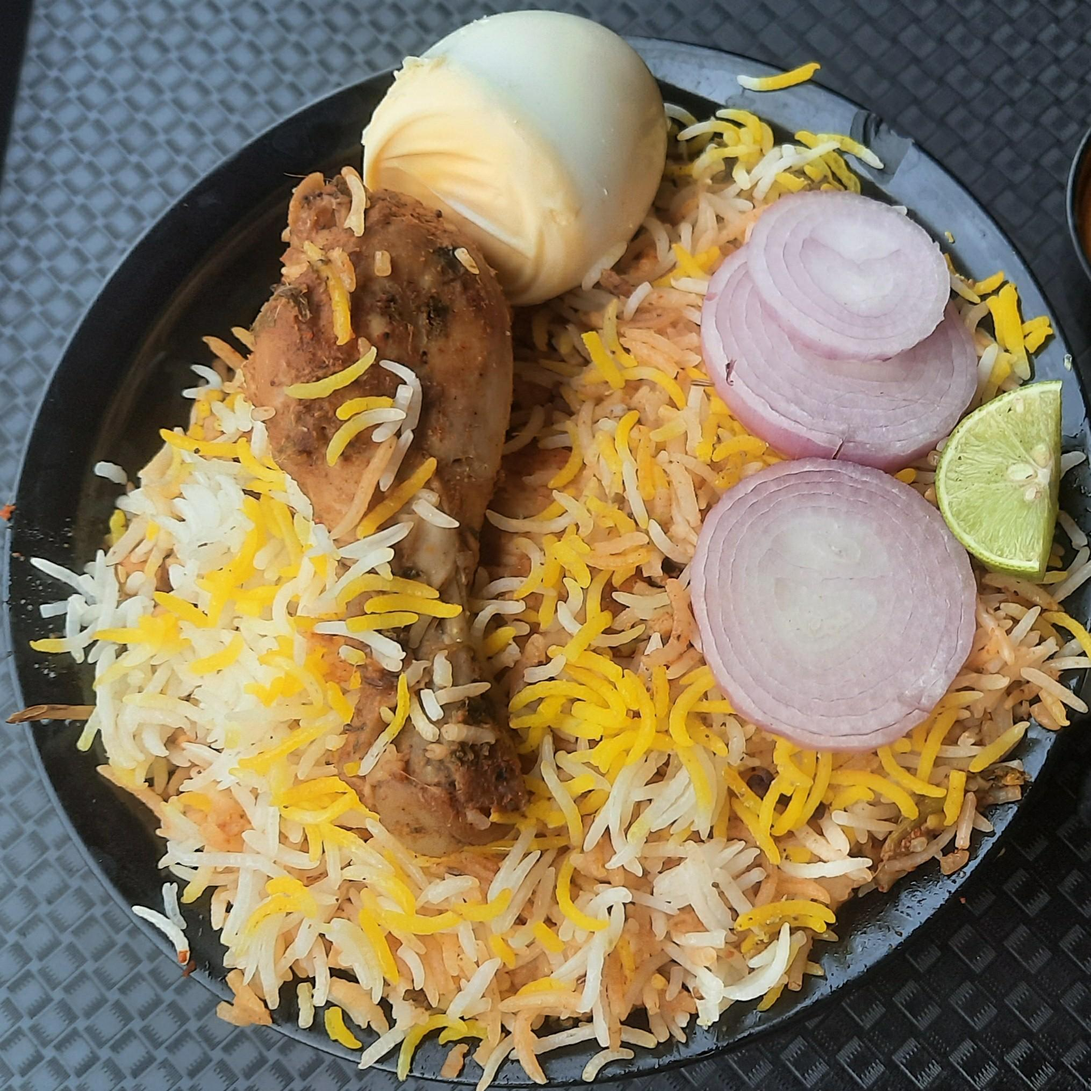Biryani: (14, 9, 1091, 1091)
